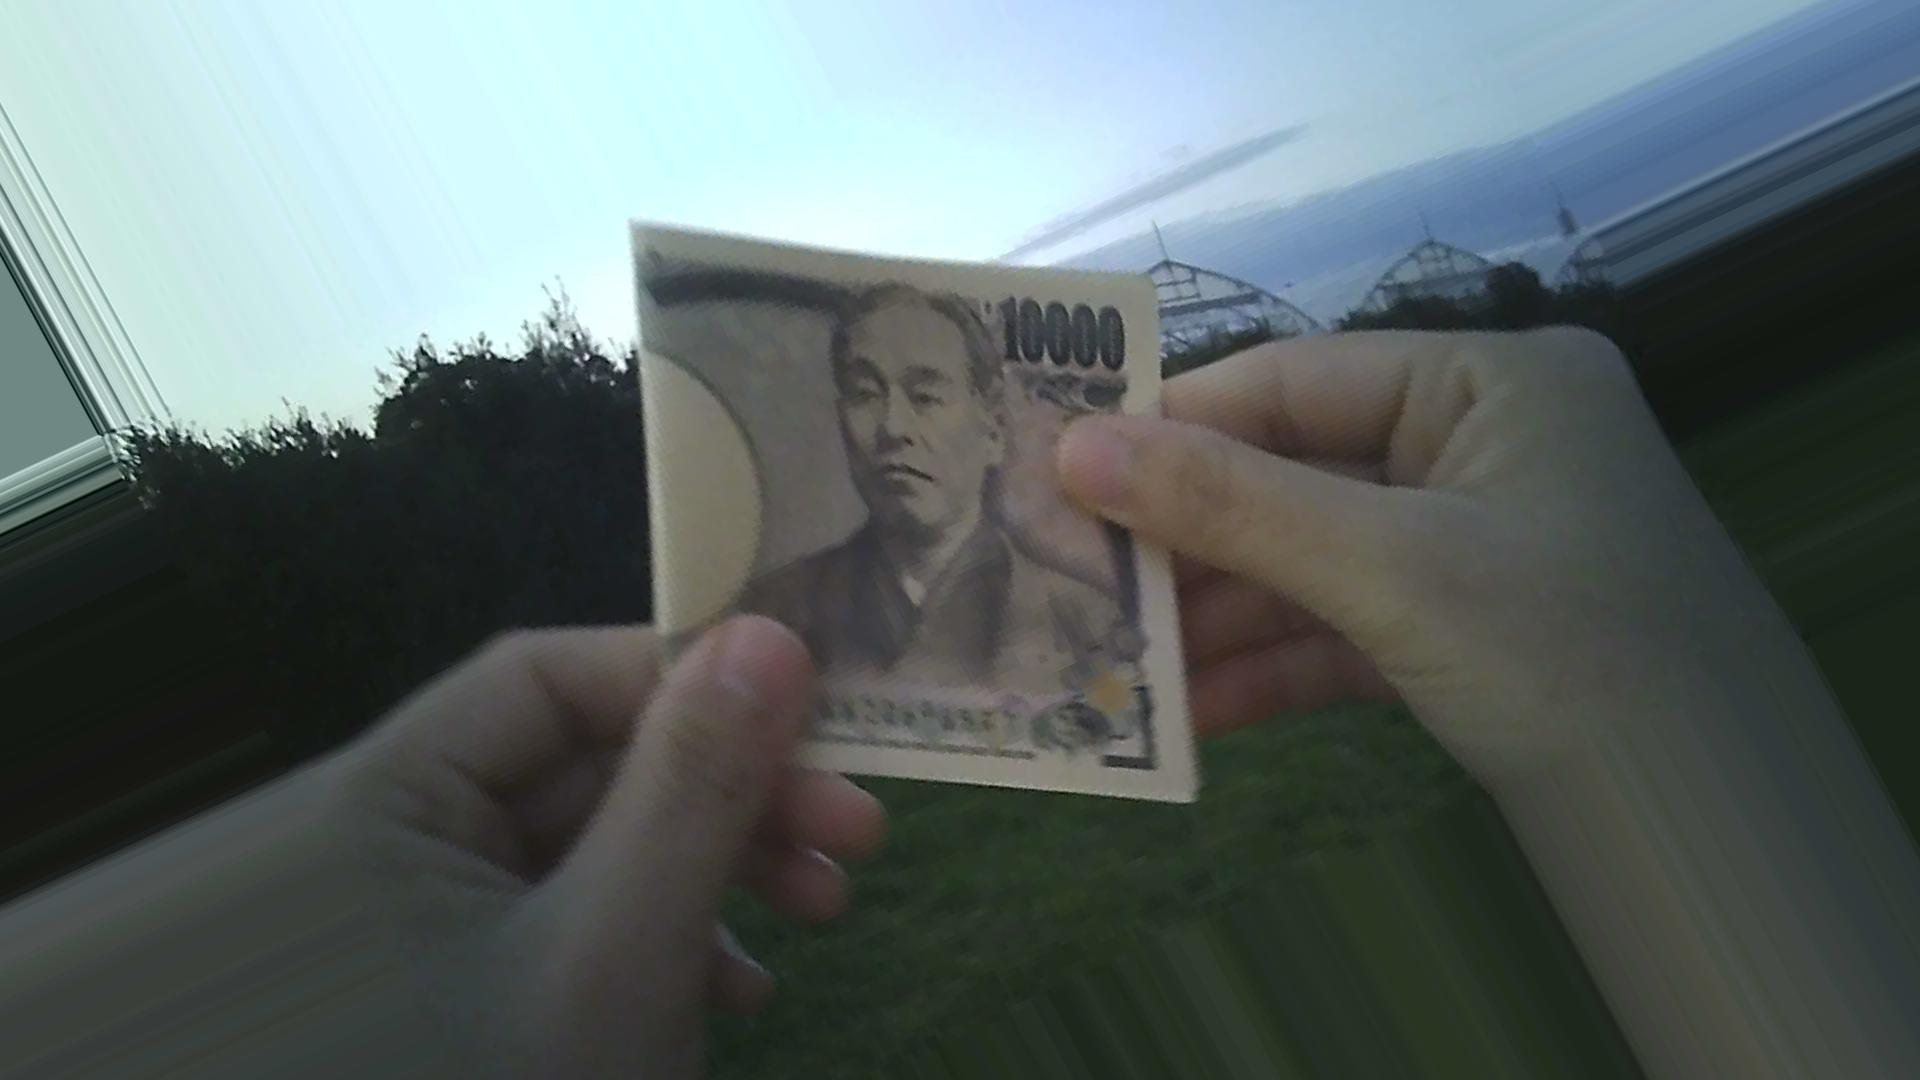10,000 Yen: (615, 204, 1228, 818)
